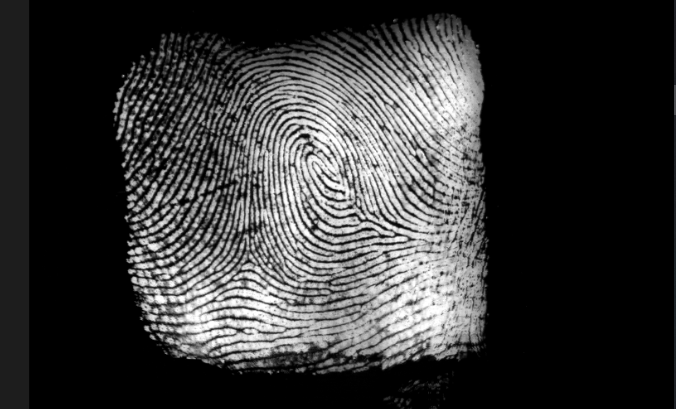deltas: (224, 240, 276, 286)
nucleo: (304, 143, 354, 203)
